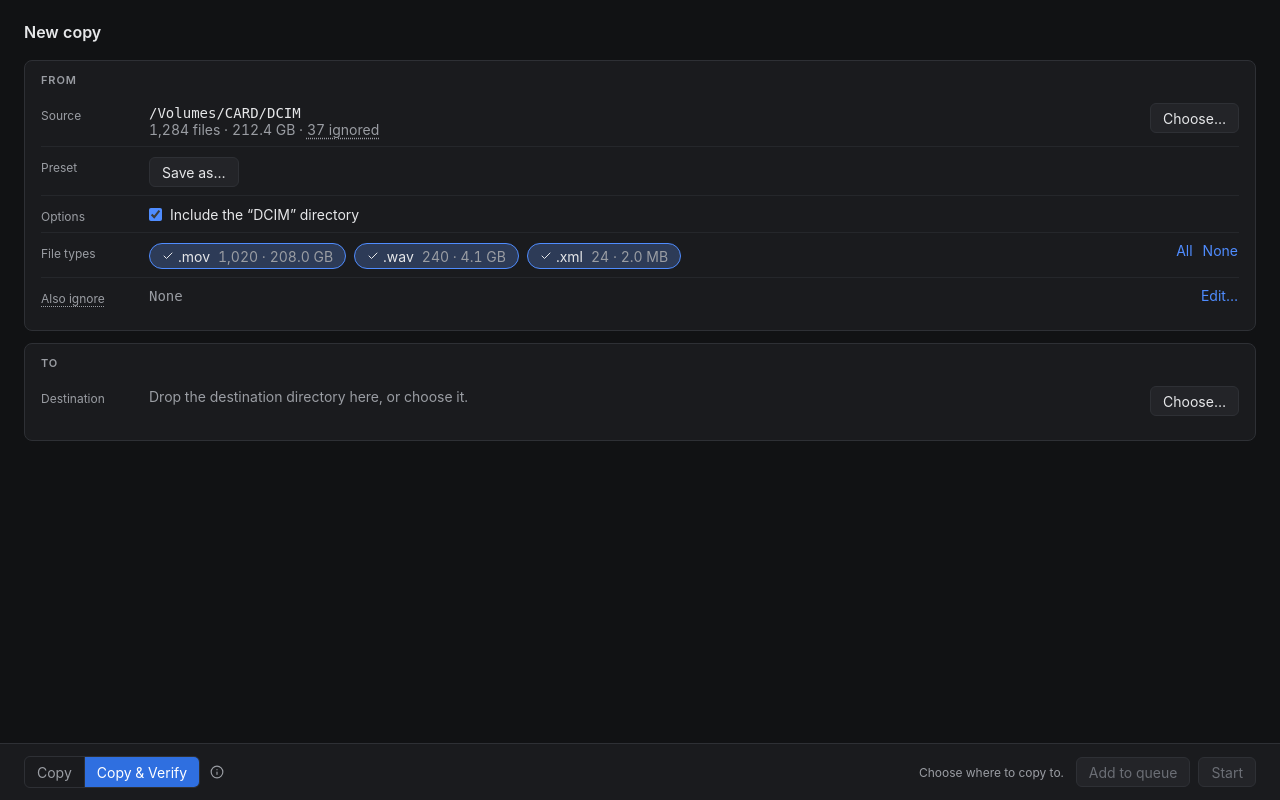
it: Setup › a command error is shown where it happened
Step 1. Click the 2nd button "Choose…" → (1194, 401), box [1150, 386, 1239, 416]
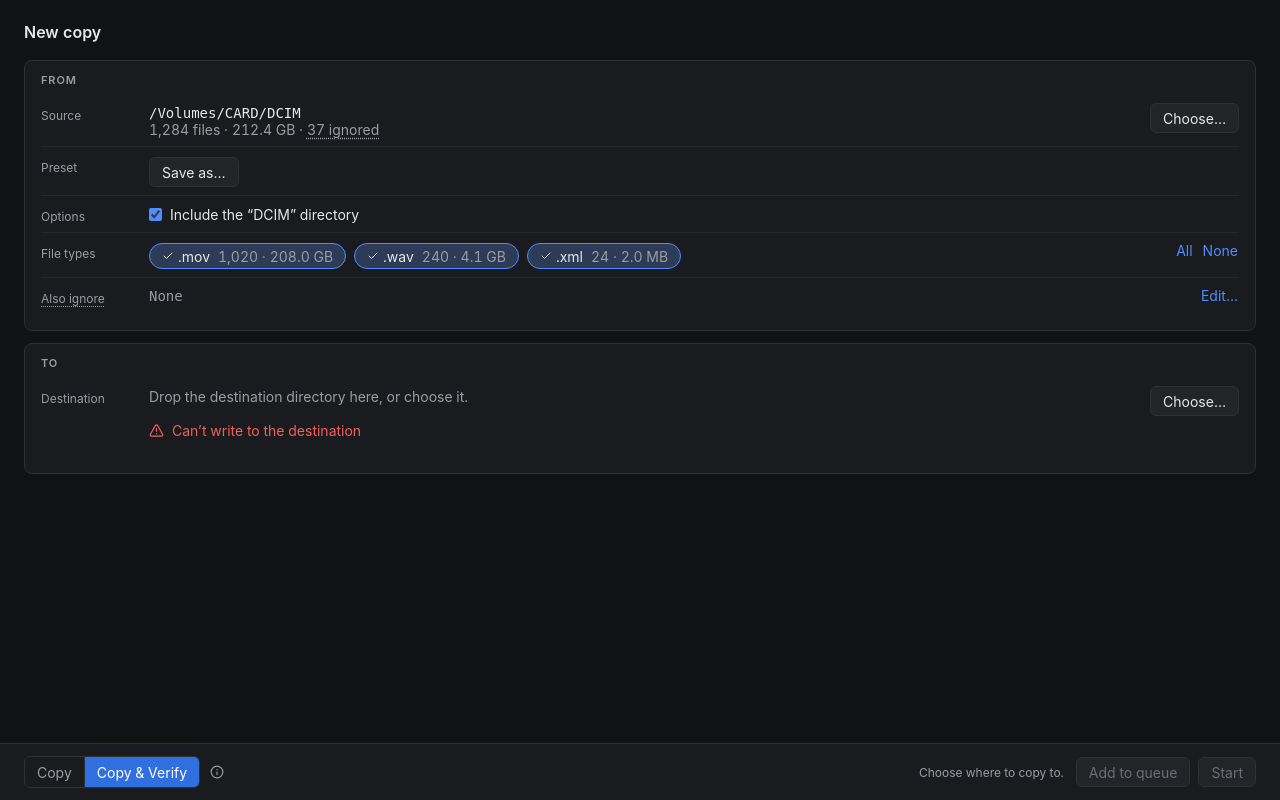
Check: the text "Can’t write to the destination" is shown, box [172, 421, 361, 441]
